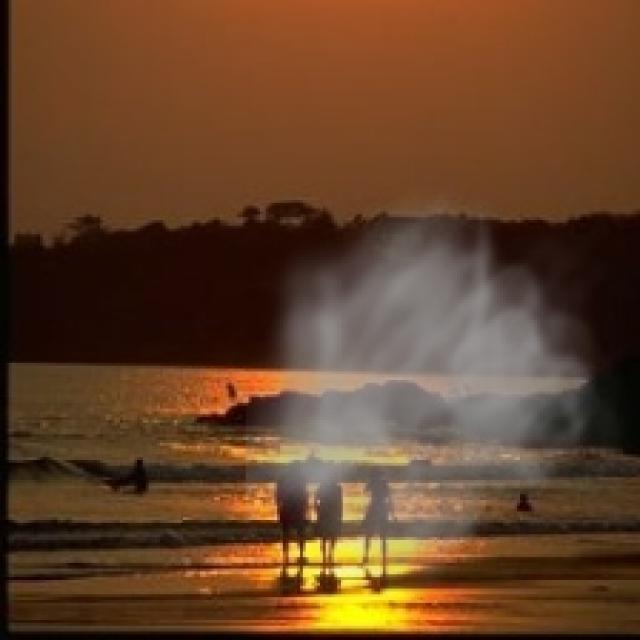Smoke: (245, 180, 638, 600)
